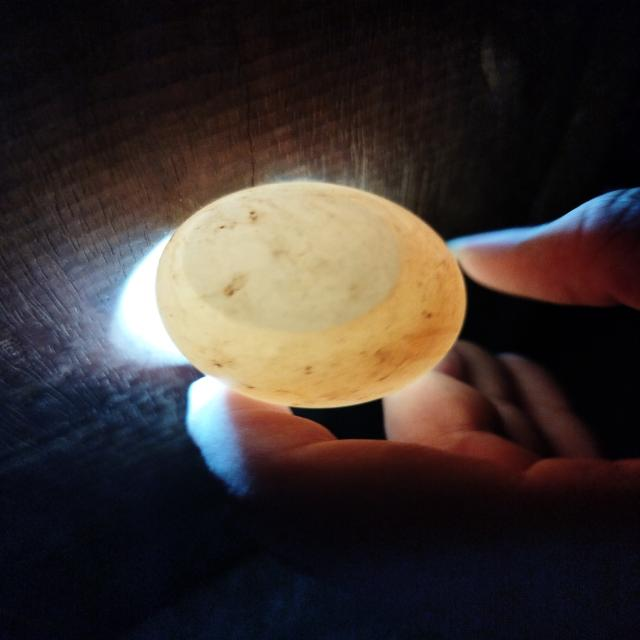Camara de Ar: (185, 184, 401, 330)
